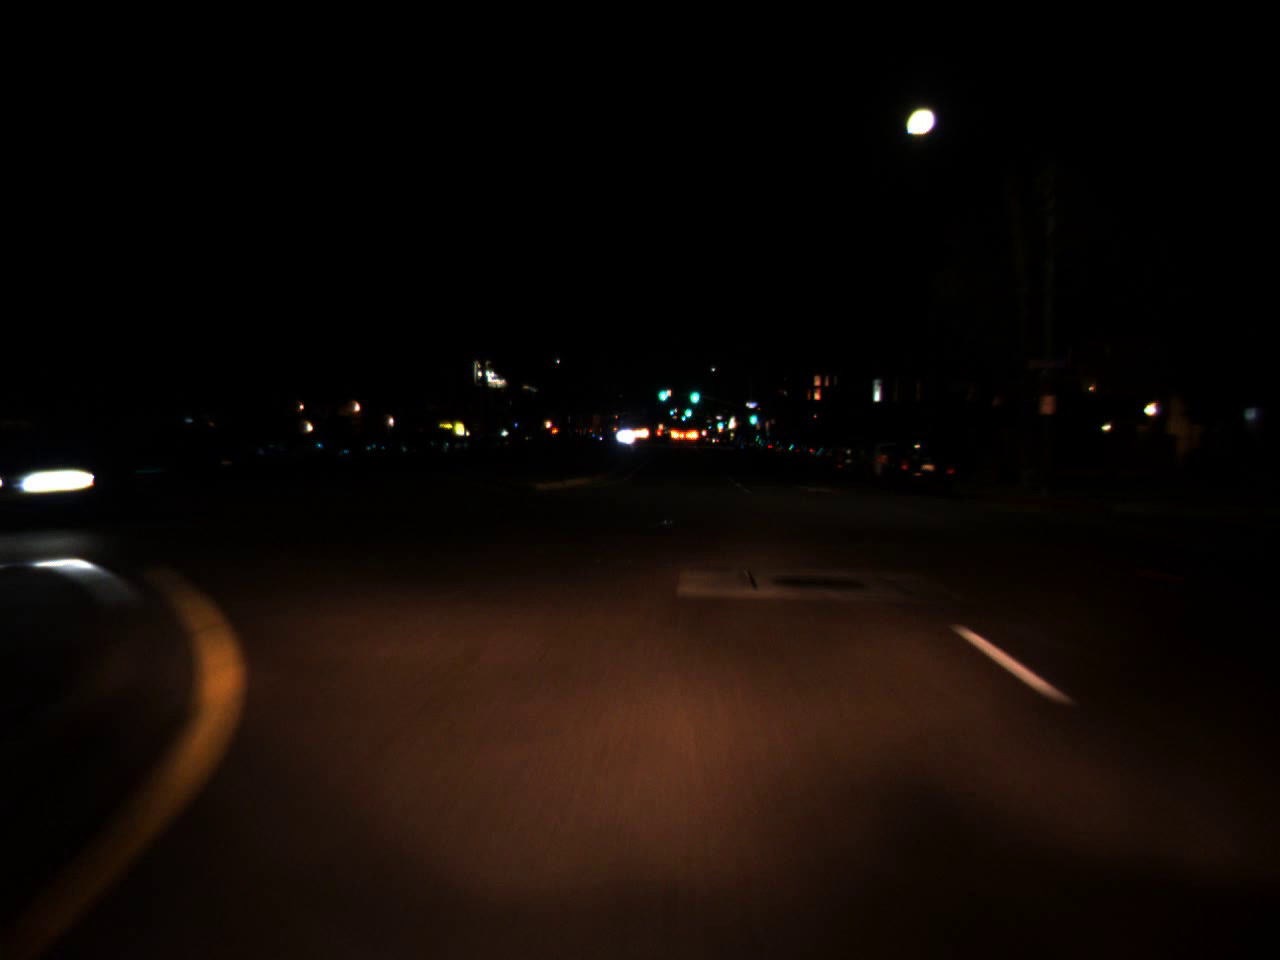go: (688, 378, 700, 408), (655, 380, 667, 404), (747, 404, 757, 428), (682, 399, 692, 419), (715, 417, 724, 429), (679, 408, 686, 423)
